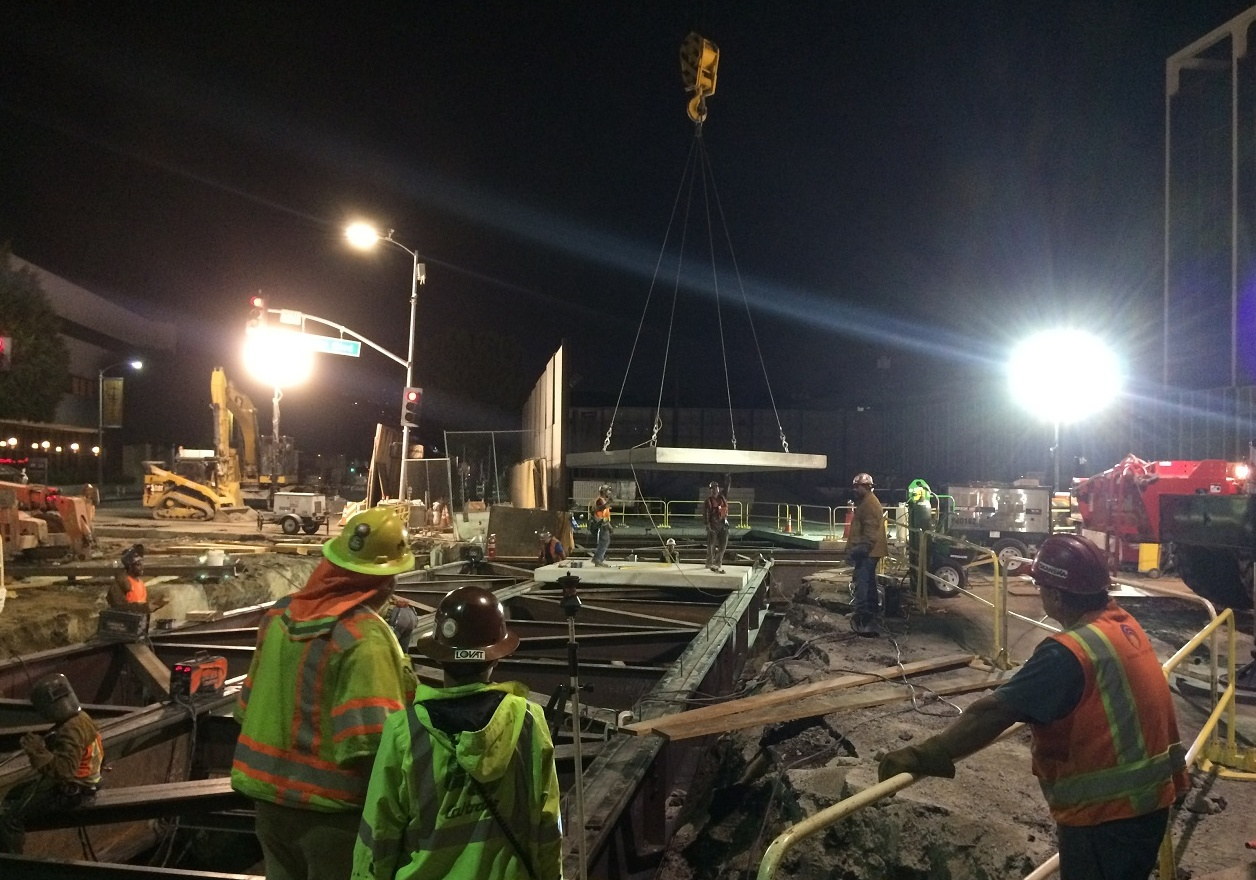red: (426, 585, 505, 684), (1023, 536, 1112, 619), (849, 470, 875, 499), (122, 550, 145, 577), (708, 478, 720, 494)
white: (597, 483, 612, 498)
yellow: (330, 509, 408, 605)
